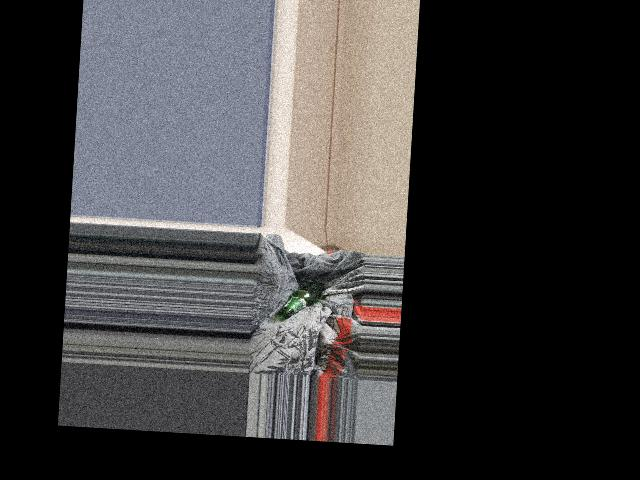beer: (278, 279, 324, 321)
